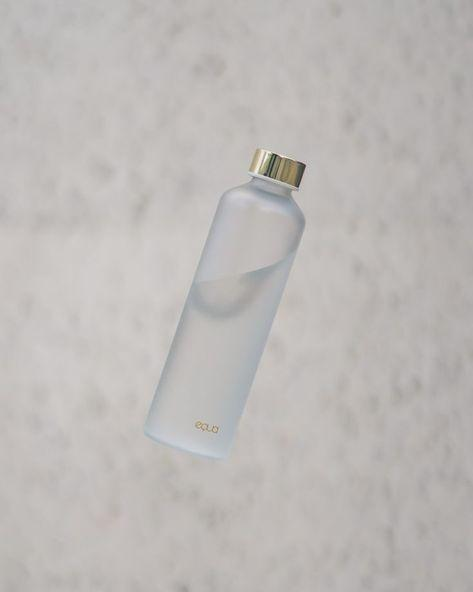gym bottle: (140, 144, 312, 460)
